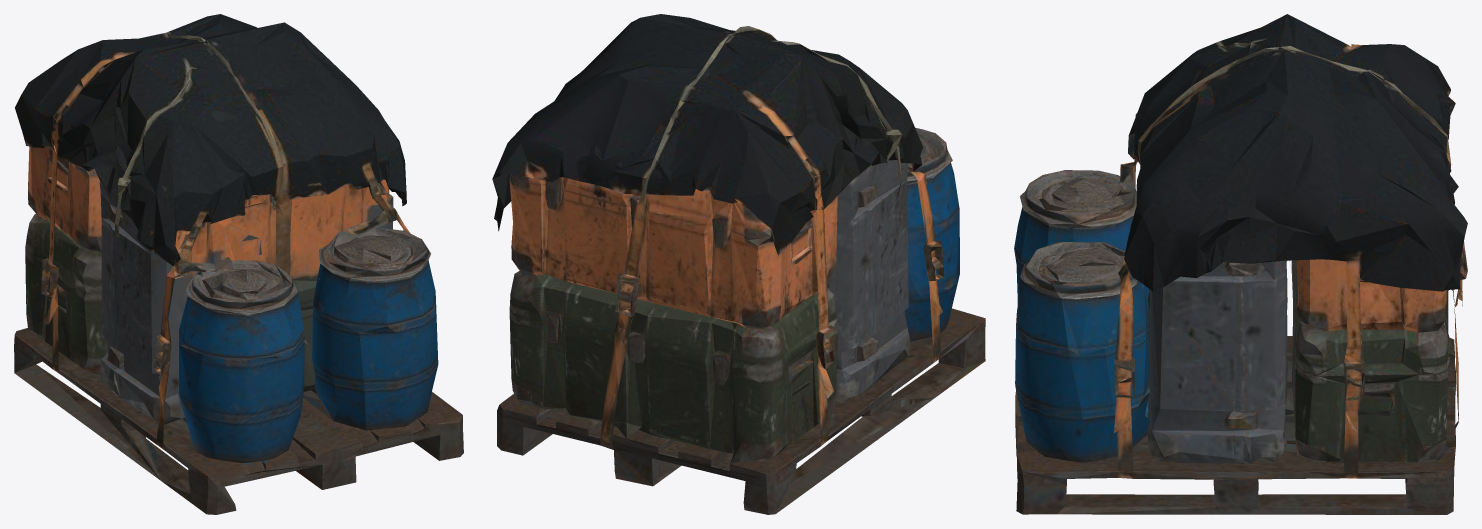
Rendered from ncz-crate-stack.glb.
3 renders of one model, left to right at view 1: azimuth 30°, elevation 25°; view 2: azimuth 150°, elevation 25°; view 3: azimuth 270°, elevation 25°, orthographic. The views are drawn at different scales.
Visible parts, largest first — view 1: output_unwrapped; view 2: output_unwrapped; view 3: output_unwrapped.
Part boxes in pixels (left/top/right/bottom): output_unwrapped: left=14, top=14, right=463, bottom=514; output_unwrapped: left=492, top=14, right=985, bottom=514; output_unwrapped: left=1014, top=14, right=1467, bottom=514.
Bounding box in the file's own units: 1.43 × 1.78 × 1.86.
Materials: 1 (1 with a texture image).
